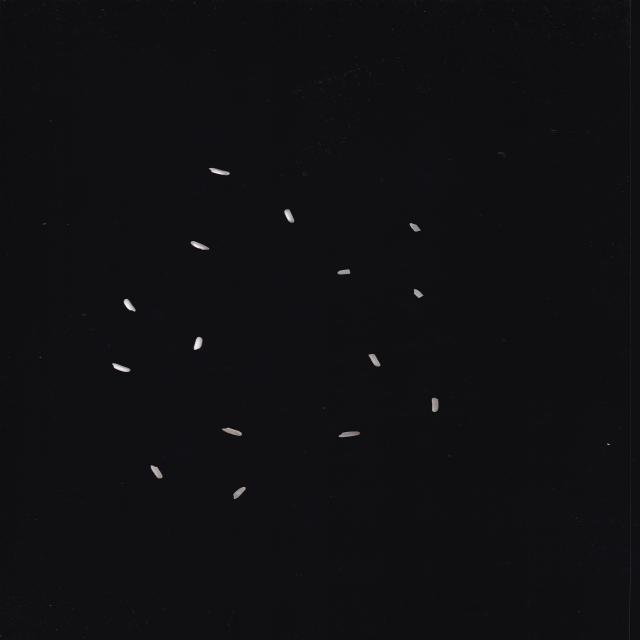Chalky: (190, 241, 210, 250), (208, 168, 230, 175), (284, 209, 294, 223)
Not: (123, 298, 136, 312), (150, 465, 163, 479), (222, 427, 242, 436), (112, 363, 131, 372), (368, 354, 381, 367), (338, 431, 361, 438), (233, 487, 246, 499), (193, 336, 203, 351), (409, 223, 422, 232), (431, 398, 439, 412), (413, 289, 424, 298), (337, 269, 351, 275)
